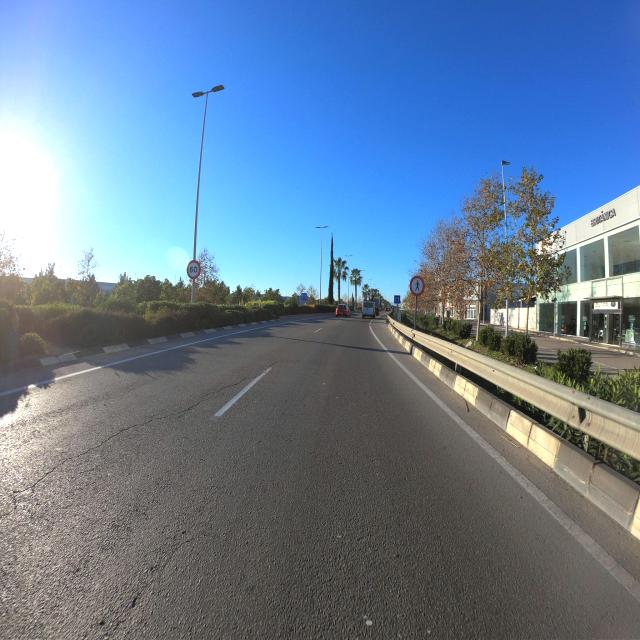car: (362, 300, 376, 319), (335, 302, 351, 318), (384, 306, 389, 312)
